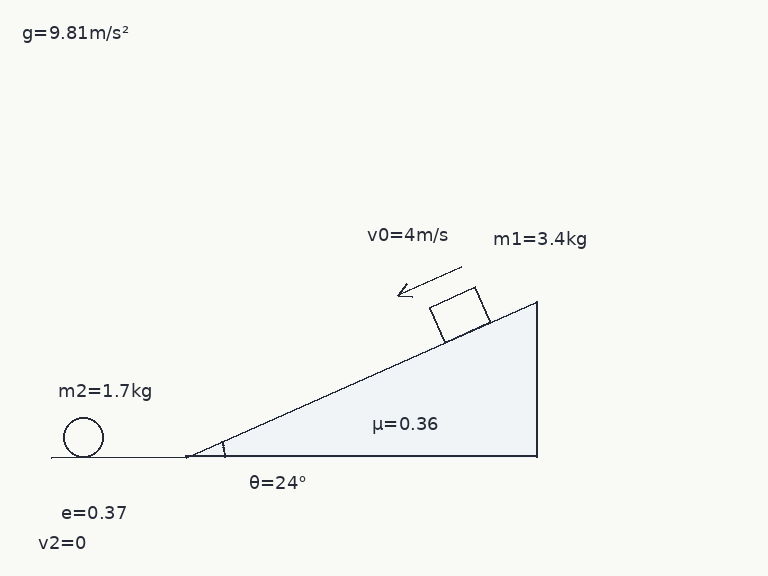ball: (61, 415, 105, 459)
block: (427, 285, 492, 344)
ramp: (183, 299, 538, 459)
